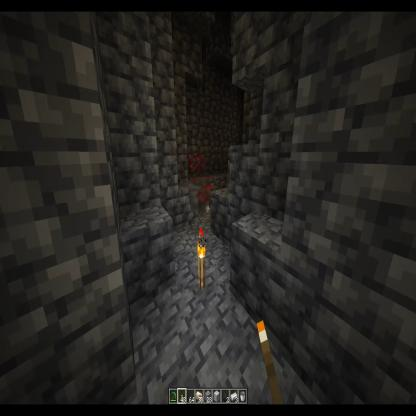redstone ore: (190, 177, 209, 211), (187, 155, 198, 178), (198, 154, 208, 176)
